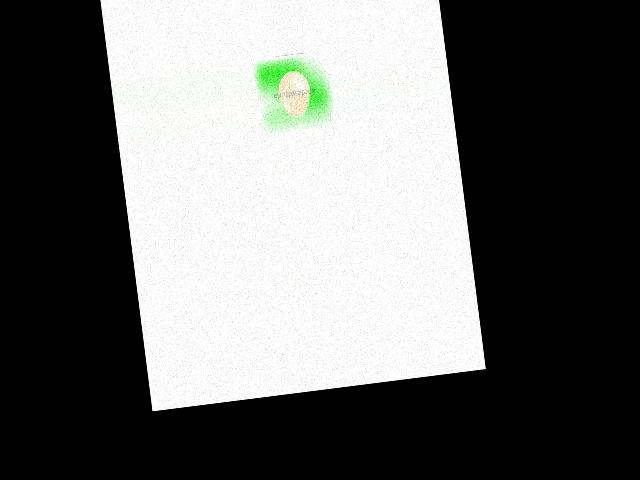egg: (277, 69, 313, 119)
